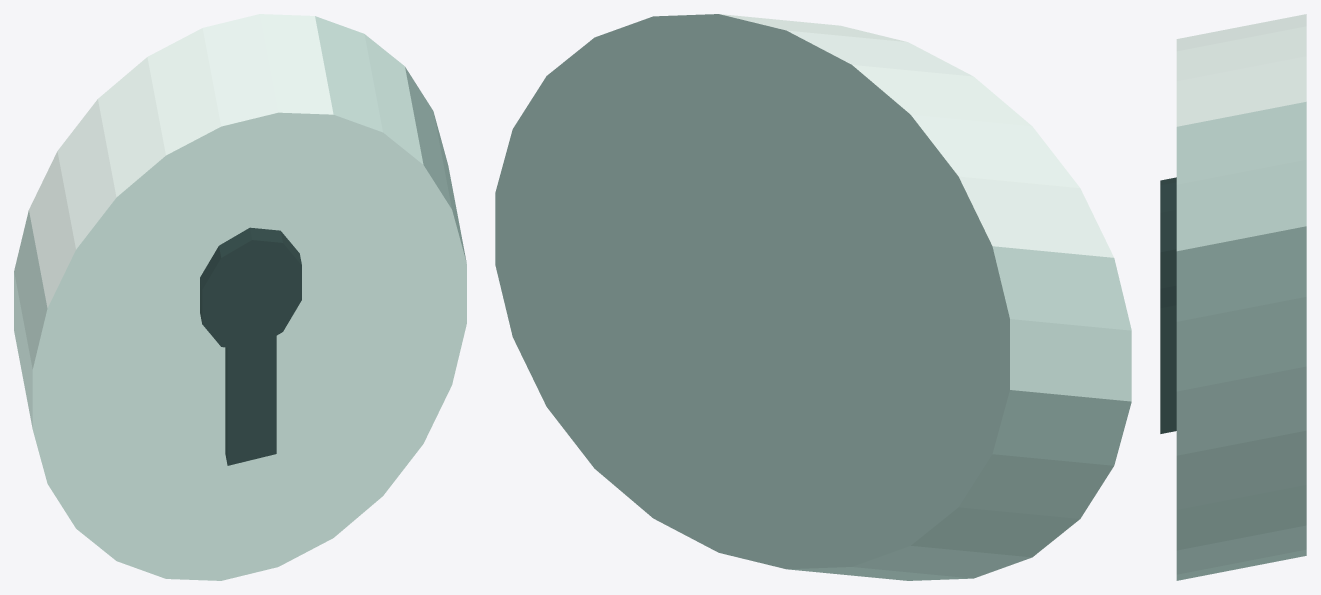
Rendered from LockWall_Emblem.gltf.
The picture shows the model from 3 angles, left to right: view 1: azimuth 30°, elevation 25°; view 2: azimuth 150°, elevation 25°; view 3: azimuth 270°, elevation 25°; orthographic projection. The views are drawn at different scales.
Visible parts, largest first — view 1: LockWall_Emblem_baked; view 2: LockWall_Emblem_baked; view 3: LockWall_Emblem_baked.
Boxes of the visible parts, x1=… form: LockWall_Emblem_baked: x1=14, y1=14, x2=466, y2=580; LockWall_Emblem_baked: x1=495, y1=14, x2=1131, y2=580; LockWall_Emblem_baked: x1=1160, y1=14, x2=1306, y2=580.
Size of the model in its own units: 0.5437 by 0.5437 by 0.135.
